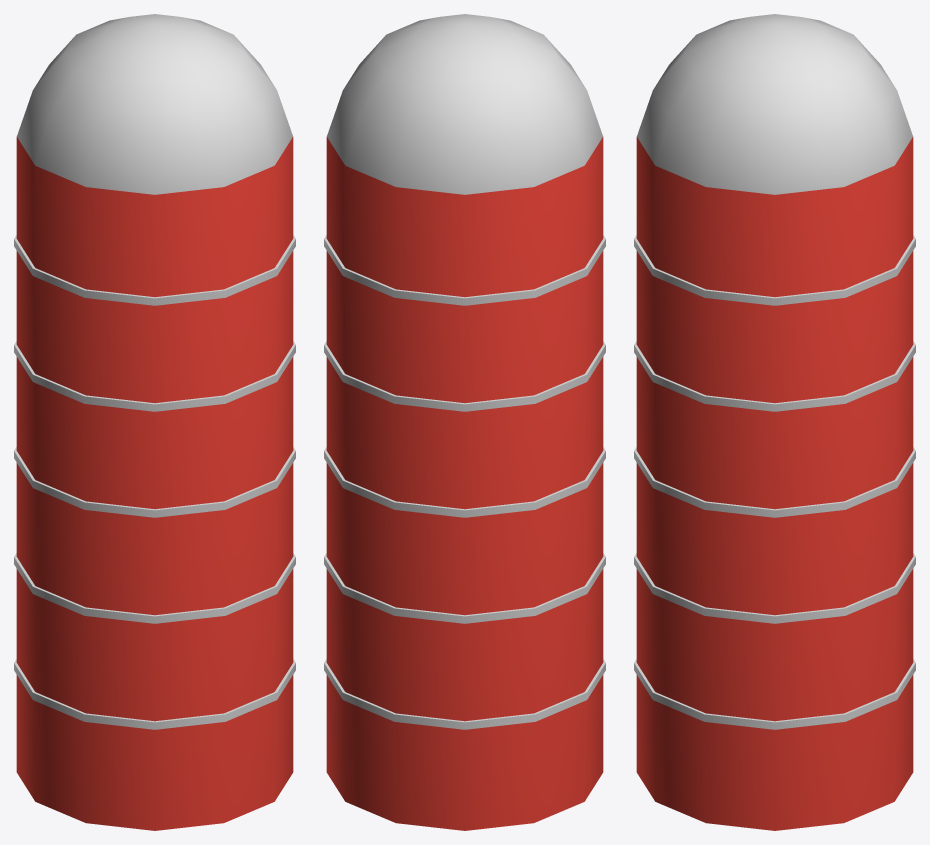
Rendered from tower_002.glb.
3 renders of one model, left to right at view 1: azimuth 30°, elevation 25°; view 2: azimuth 150°, elevation 25°; view 3: azimuth 270°, elevation 25°, orthographic.
Visible parts, largest first — view 1: tower_002; view 2: tower_002; view 3: tower_002.
Boxes of the visible parts, <box> form: tower_002: <box>14,14,295,830</box>; tower_002: <box>324,14,605,830</box>; tower_002: <box>634,14,915,830</box>.
Bounding box in the file's own units: 4.18 × 12.25 × 4.18.
Materials: 1 (1 with a texture image).
